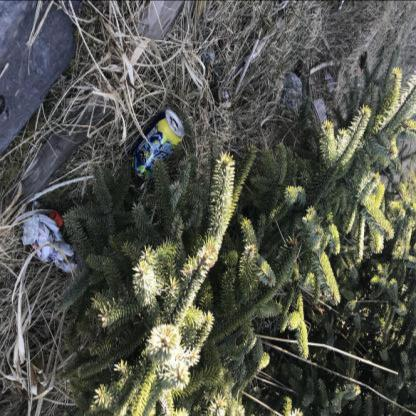Bottle: (50, 210, 63, 226)
Can: (130, 110, 186, 180)
Plastic container: (314, 98, 327, 123)
Pop tab: (172, 119, 178, 130)
Unlabeled litter: (33, 213, 84, 274), (22, 215, 39, 243), (328, 70, 335, 92)
